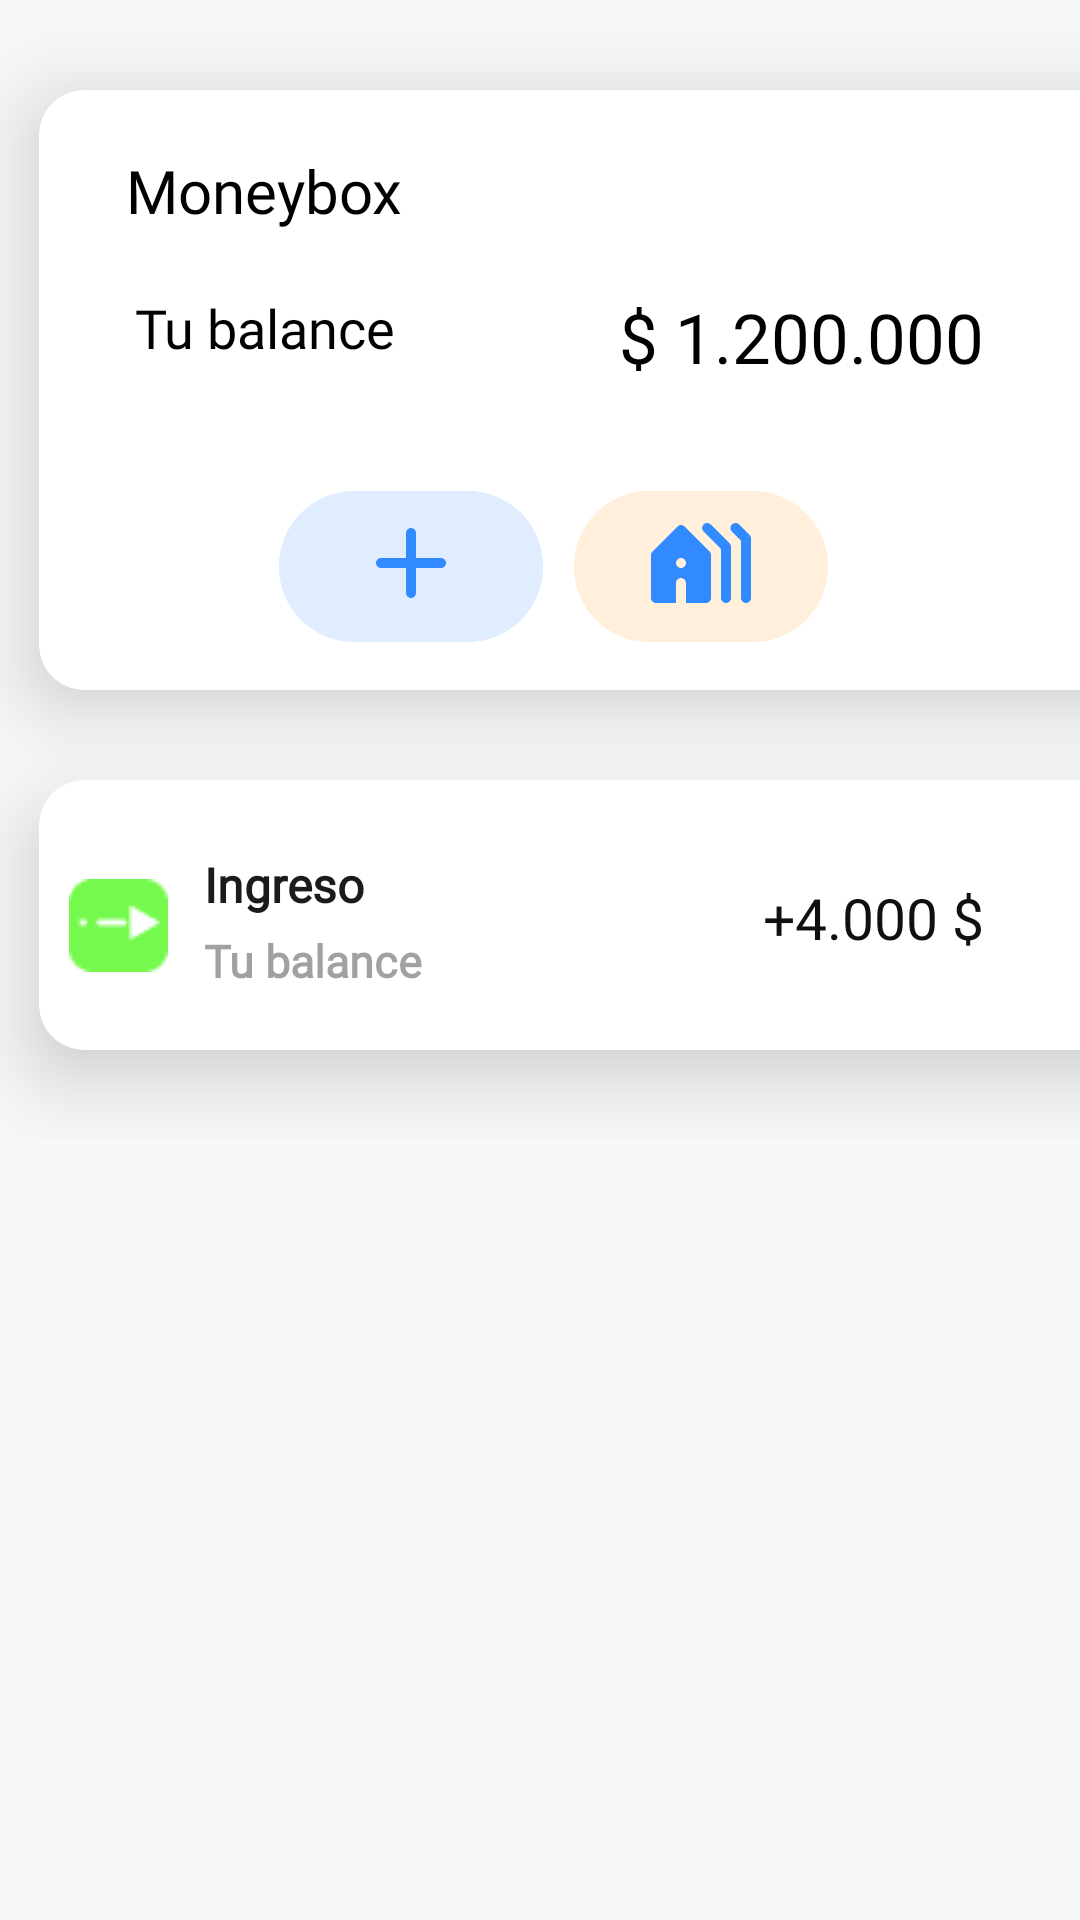

Screen size 1080 × 1920. Icon name, then its box in pixels as [x1=x1, y1=y1, x2=x2, y2=y2]:
income: [x1=69, y1=879, x2=168, y2=972]
